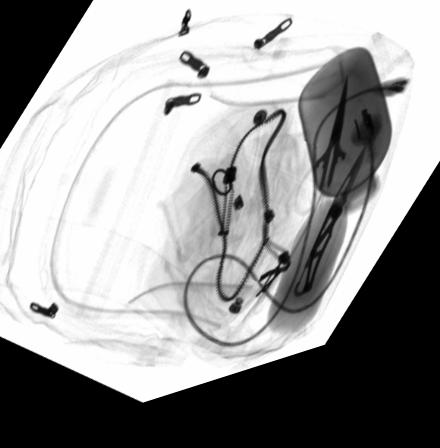Knife: (294, 167, 365, 314)
Scissors: (293, 95, 357, 236)
